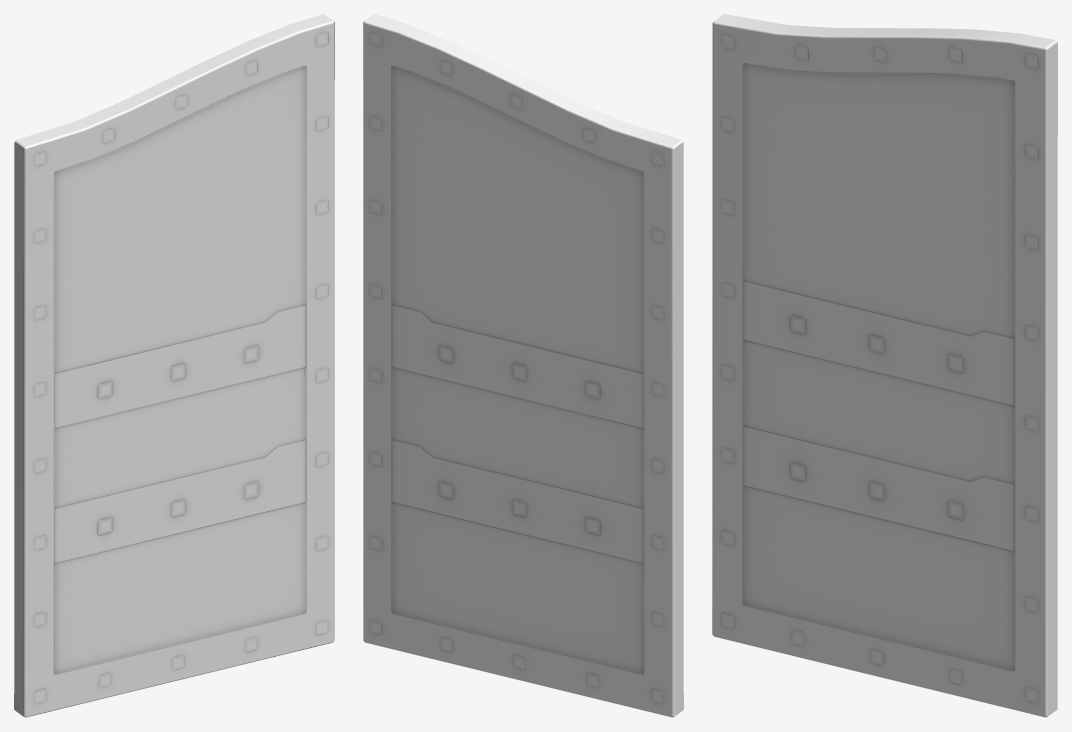
Rendered from garage_door.fbx.
The picture shows the model from 3 angles, left to right: view 1: azimuth 30°, elevation 25°; view 2: azimuth 150°, elevation 25°; view 3: azimuth 330°, elevation 25°; orthographic projection. The views are drawn at different scales.
Visible parts, largest first — view 1: door.005; view 2: door.005; view 3: door.005.
Boxes of the visible parts, x1,y1,x2,y2 form: door.005: (14,14,334,717); door.005: (363,14,683,717); door.005: (712,14,1057,717).
Size of the model in its own units: 299 by 571 by 19.08.
Materials: 1 (1 with a texture image).
